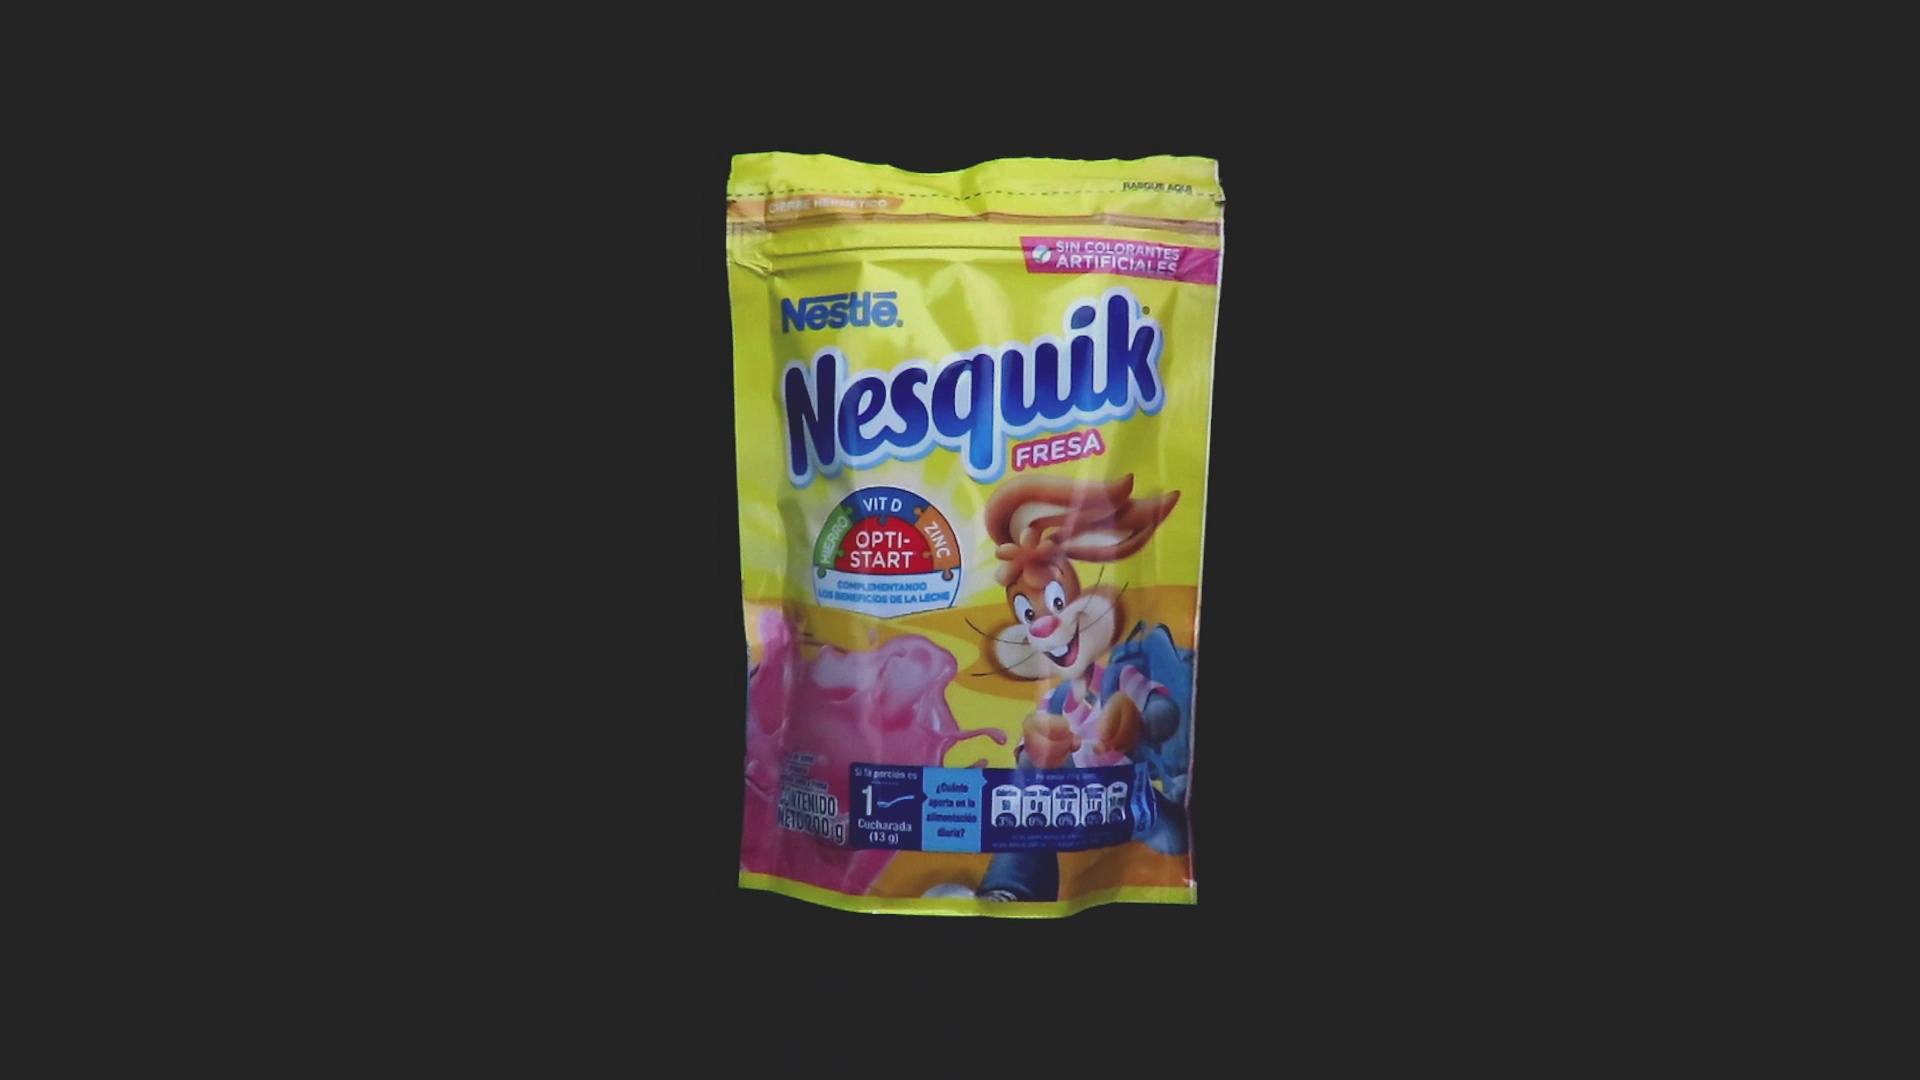COL0170305DYP20000: (721, 146, 1232, 924)
